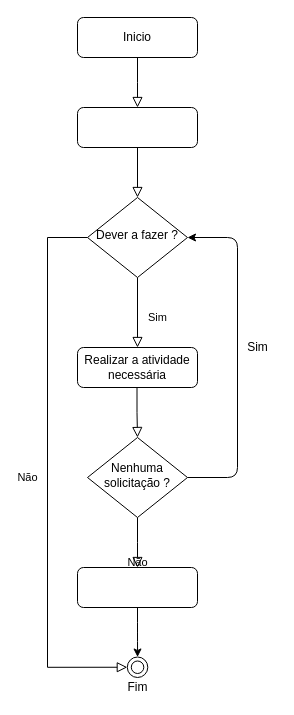
The diagram is 294 pixels wide and 715 high, and some of its shapes have lost their labels. The box of each missing label's shape, as (x1, y1, x2, y2) in pixels:
Ponto de entrada do horário do funcionário: (76, 106, 198, 148)
Ponto de saída do horário do funcionário: (76, 566, 198, 608)
